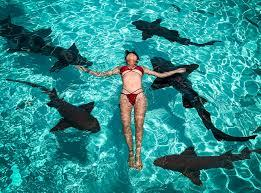swimmer: (79, 50, 186, 169), (149, 55, 258, 142), (5, 75, 101, 134), (0, 15, 93, 73), (152, 143, 260, 186), (130, 18, 223, 49)
